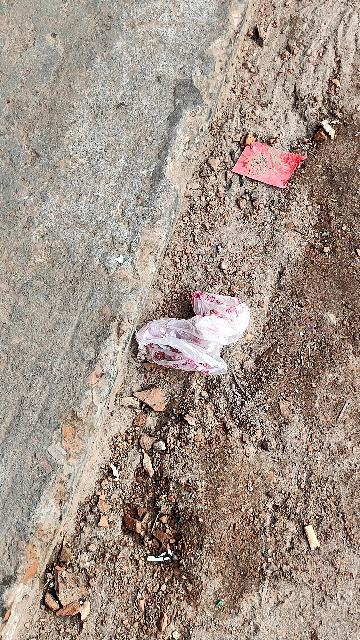polythene: (134, 285, 251, 379)
